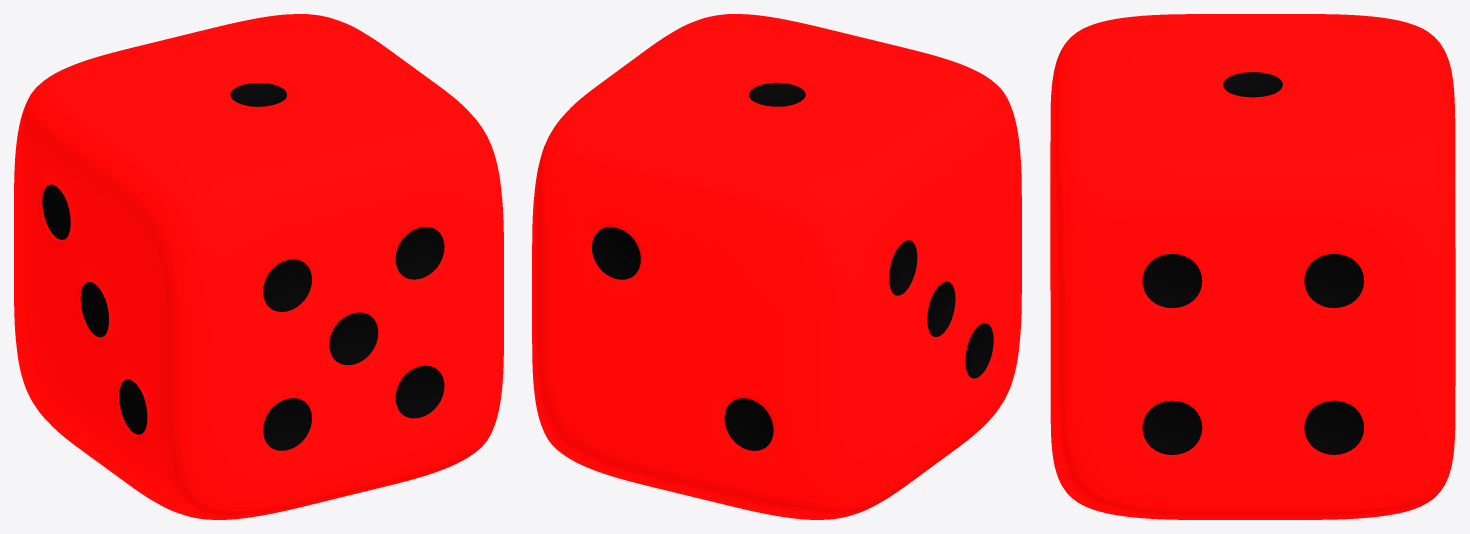
3 views of the same model, side by side, from view 1: azimuth 30°, elevation 25°; view 2: azimuth 150°, elevation 25°; view 3: azimuth 270°, elevation 25° (orthographic). The views are drawn at different scales.
Visible parts, largest first — view 1: Dice_Cube; view 2: Dice_Cube; view 3: Dice_Cube.
Boxes of the visible parts, x1=… form: Dice_Cube: x1=14, y1=14, x2=503, y2=519; Dice_Cube: x1=532, y1=14, x2=1021, y2=519; Dice_Cube: x1=1050, y1=14, x2=1455, y2=519.
Bounding box in the file's own units: 2 × 2 × 2.
